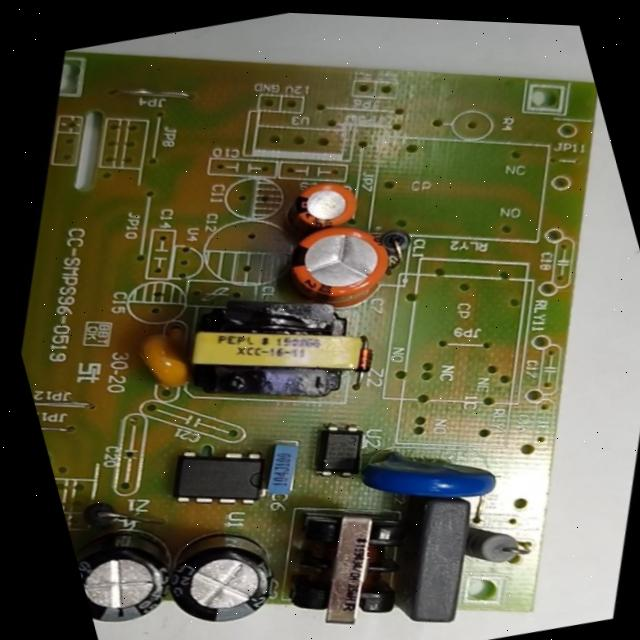Cap1: (254, 199, 421, 333)
Cap2: (271, 163, 380, 248)
Cap3: (137, 503, 308, 640)
Cap4: (65, 500, 207, 640)
MOSFET: (146, 421, 291, 529)
Mov: (342, 421, 519, 535)
Resistor: (447, 508, 547, 584)
Transformer: (143, 254, 413, 449), (246, 477, 445, 640)
